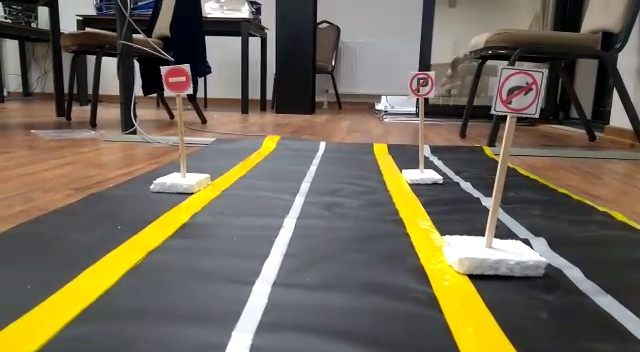girisi_olmayan_yol: (160, 62, 193, 95)
park_yapilmaz: (409, 70, 436, 99)
saga_donulmez: (494, 67, 544, 113)
